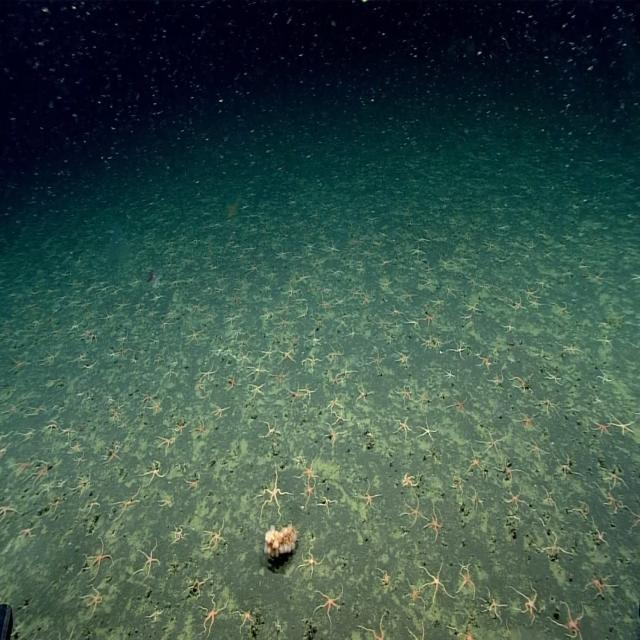brittle-stars: (261, 467, 288, 519), (551, 602, 583, 640), (200, 596, 228, 638), (313, 585, 343, 624), (421, 561, 448, 601), (511, 583, 540, 620), (85, 541, 114, 578), (112, 486, 140, 519), (203, 519, 228, 555), (136, 544, 160, 580), (586, 570, 616, 598), (598, 482, 622, 514), (301, 546, 324, 577), (83, 586, 106, 616), (359, 617, 389, 640), (611, 411, 637, 437), (602, 463, 627, 490), (424, 508, 444, 541), (143, 458, 167, 485), (403, 500, 426, 528), (485, 591, 505, 623), (357, 482, 379, 511), (481, 432, 505, 458), (406, 580, 425, 610), (457, 569, 477, 597), (464, 448, 484, 476), (236, 606, 256, 634), (496, 458, 520, 481), (515, 408, 537, 432), (510, 374, 533, 396), (505, 488, 527, 510), (32, 460, 52, 484), (419, 419, 438, 444), (527, 438, 546, 463), (302, 455, 320, 481), (448, 393, 468, 416), (627, 505, 640, 539), (590, 417, 610, 438), (325, 425, 345, 446), (394, 416, 411, 440), (0, 498, 17, 522), (540, 398, 560, 418), (158, 434, 178, 454), (104, 444, 122, 466), (302, 480, 318, 504), (402, 471, 421, 491), (319, 491, 336, 513), (172, 521, 188, 544), (248, 380, 266, 400), (264, 419, 282, 438), (200, 362, 219, 380), (366, 350, 384, 369), (477, 352, 494, 372), (20, 522, 37, 542), (355, 382, 371, 403), (303, 352, 321, 370), (248, 360, 266, 378), (544, 369, 562, 387), (159, 492, 176, 511), (448, 341, 464, 361), (194, 418, 209, 439), (211, 404, 229, 421), (184, 475, 201, 493), (488, 373, 504, 392), (328, 345, 344, 364), (397, 384, 412, 404), (562, 342, 579, 359), (186, 327, 202, 345), (226, 374, 242, 392), (421, 310, 437, 328), (400, 388, 416, 406), (288, 384, 302, 404), (278, 347, 294, 364), (308, 332, 324, 349), (523, 284, 540, 300), (395, 349, 410, 367), (148, 396, 163, 414), (333, 410, 348, 428), (303, 382, 317, 401), (464, 300, 480, 316), (262, 345, 277, 362), (274, 368, 288, 386), (416, 389, 430, 407), (326, 395, 340, 413), (276, 314, 291, 330), (174, 418, 187, 436), (115, 298, 130, 313), (402, 287, 416, 303), (237, 348, 250, 365), (296, 270, 309, 286), (62, 423, 75, 439), (71, 440, 83, 456), (332, 373, 344, 388), (74, 453, 86, 467), (445, 367, 457, 381)
